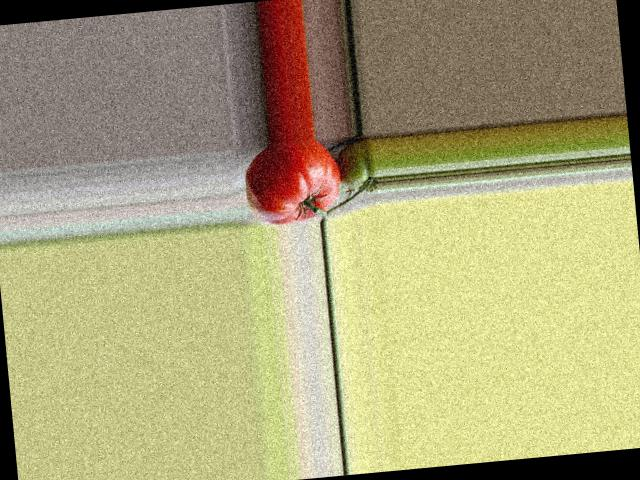tomato: (240, 136, 343, 227)
